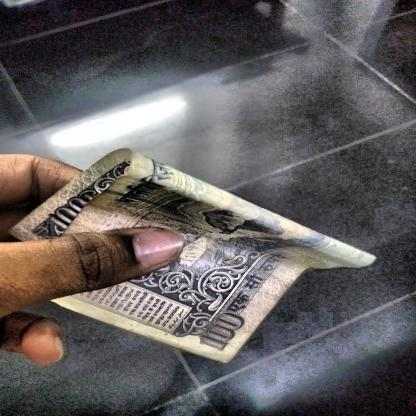Rs100: (190, 305, 254, 356)
